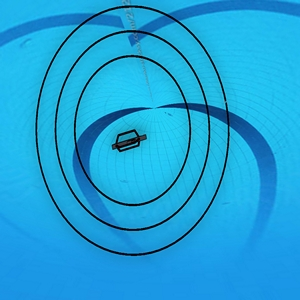circle: (34, 3, 235, 272)
submarine: (113, 132, 151, 152)
